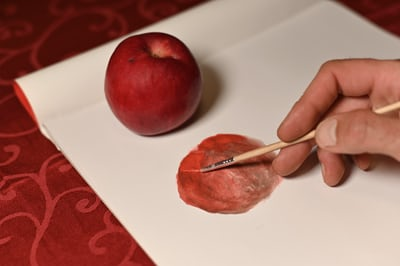apple: (101, 20, 205, 140)
